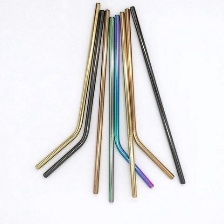drinking_straw: (30, 0, 104, 173), (126, 3, 193, 187), (104, 14, 118, 207)
